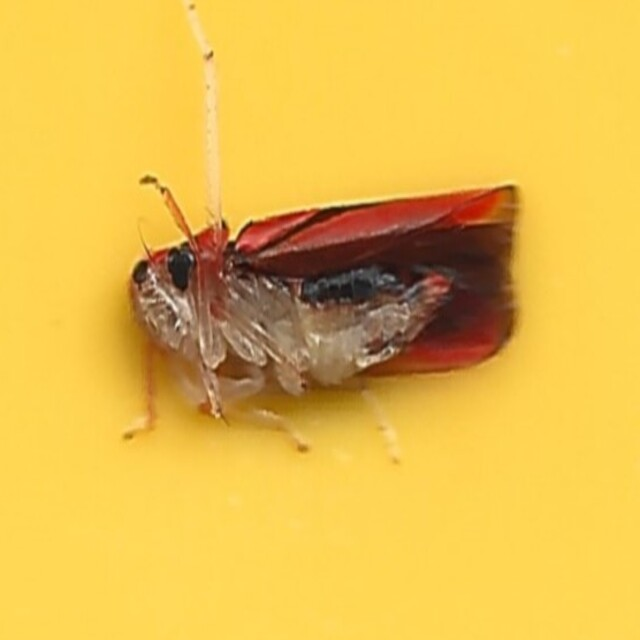Hemiptera: (115, 166, 525, 474)
